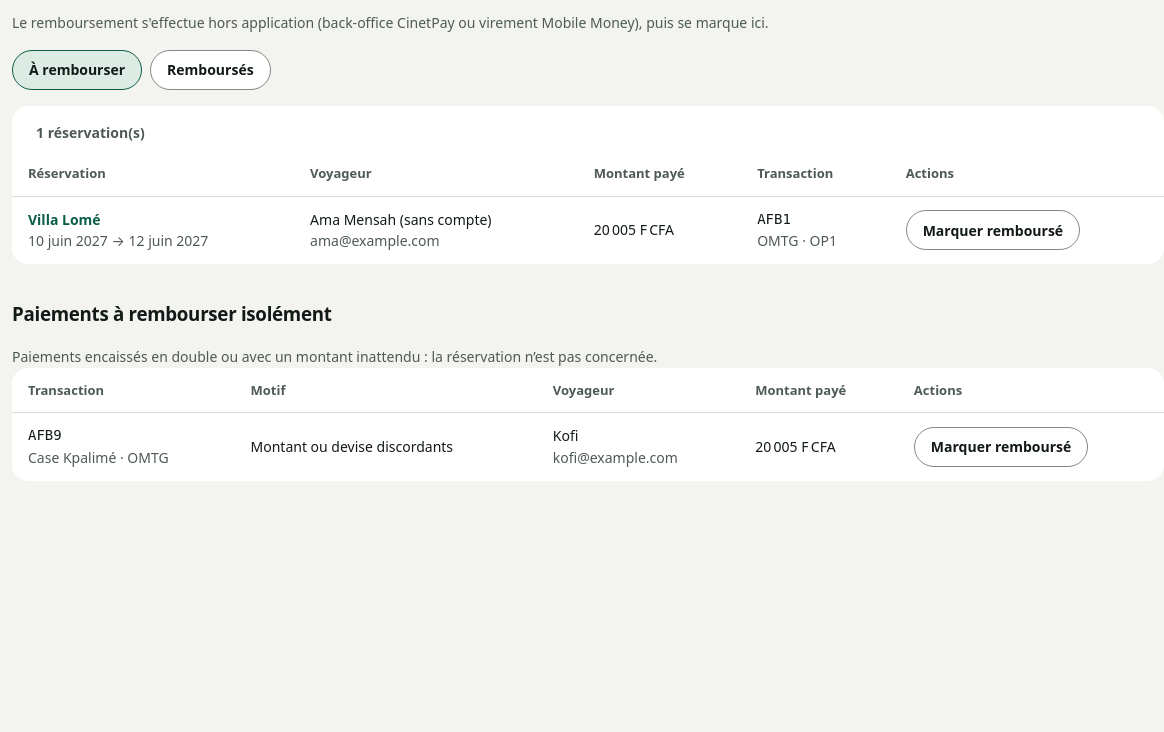
Test: AdminRefunds › lists bookings to refund and marks one as refunded
This screenshot has width=1164, height=732.
Expected: the text "Ama Mensah (sans compte)" is shown, [310,210,492,228]
What coordinates should you click on to do the following:
click the button "Marquer remboursé" in the row of "Villa Lomé"
I would click on:
 (993, 230)
Its box is [906,210,1080,250].
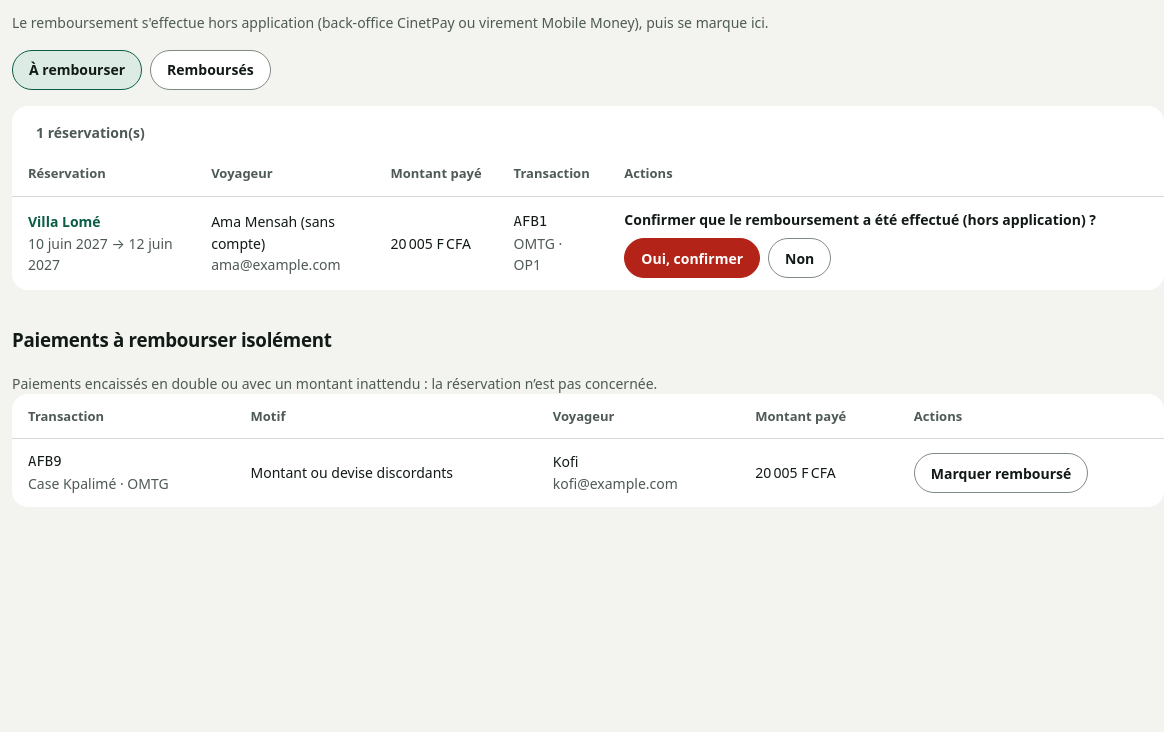
What coordinates should you click on to do the following:
click the button "Oui, confirmer"
I would click on:
 (692, 258)
Its box is [624,238,760,278].
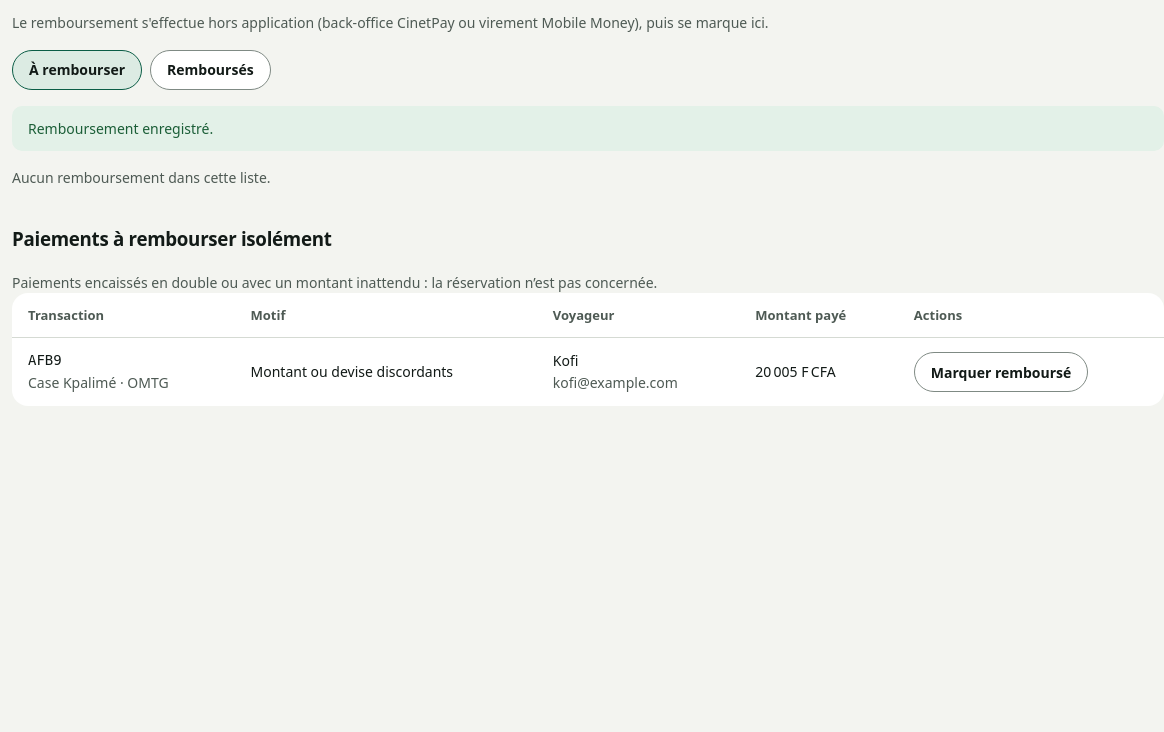
Expected: the text "Remboursement enregistré." is shown, [12,106,1163,151]
